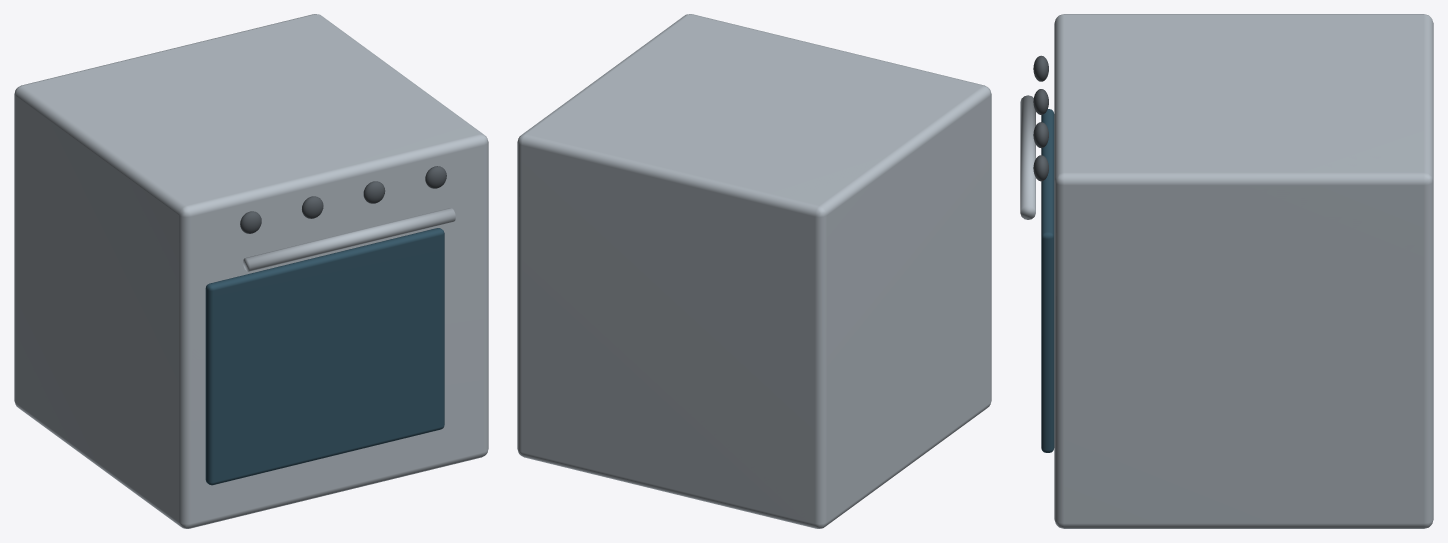
Rendered from atelier-oven.glb.
3 views of the same model, side by side, from view 1: azimuth 30°, elevation 25°; view 2: azimuth 150°, elevation 25°; view 3: azimuth 270°, elevation 25° (orthographic). The views are drawn at different scales.
Visible parts, largest first — view 1: steel.006, screen.001, metal.117; view 2: steel.006; view 3: steel.006, screen.001, metal.117.
Part boxes in pixels (box(x1,y1,x2,y2)): steel.006: box(14, 14, 488, 528); screen.001: box(205, 228, 444, 485); metal.117: box(240, 166, 446, 233); steel.006: box(517, 14, 991, 528); steel.006: box(1020, 14, 1433, 528); screen.001: box(1041, 109, 1054, 452); metal.117: box(1033, 55, 1048, 181).
Size of the model in its own units: 0.6 by 0.6 by 0.632.
